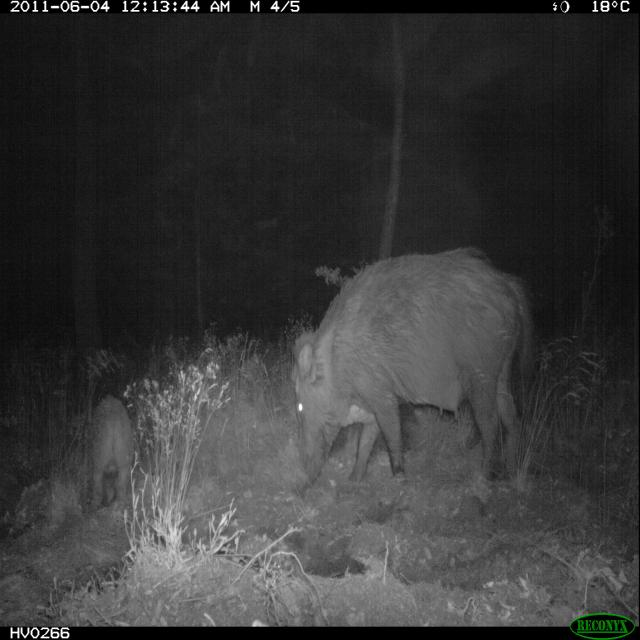boar: (255, 223, 574, 508), (71, 365, 150, 546)
